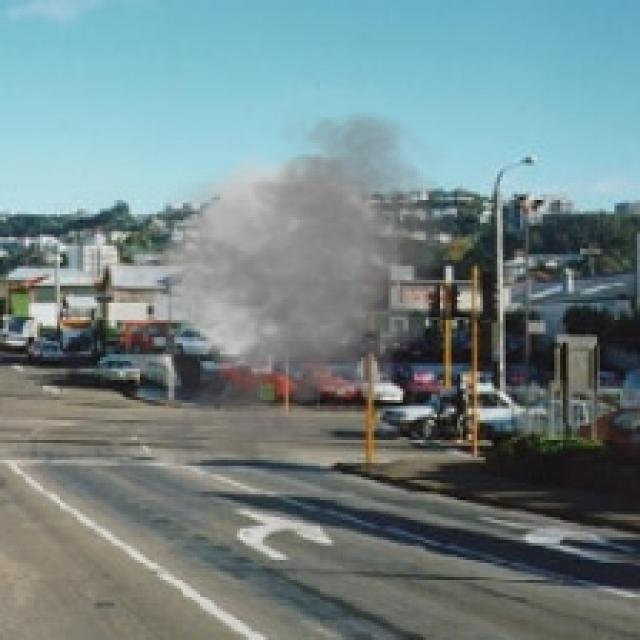smoke: (92, 97, 474, 472)
